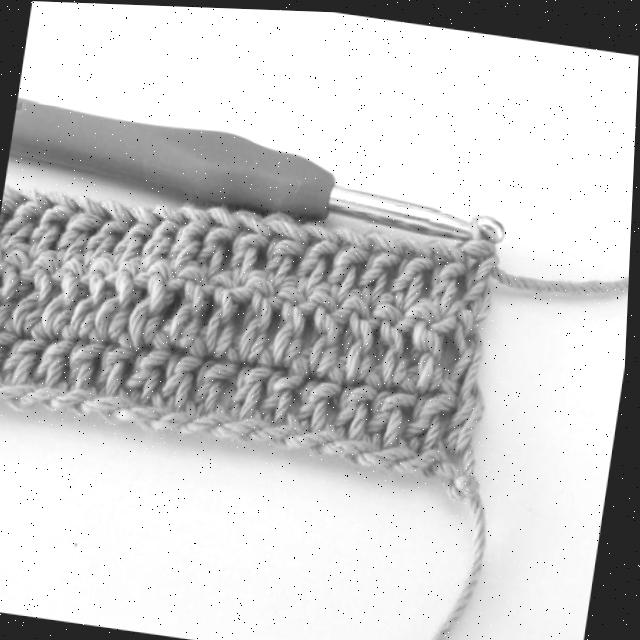ch: (437, 457, 485, 498), (177, 411, 235, 436), (395, 446, 450, 472), (359, 446, 426, 467), (77, 394, 141, 415), (13, 387, 69, 411), (46, 388, 100, 412), (214, 417, 272, 439), (143, 410, 200, 432), (314, 437, 379, 454), (109, 405, 170, 422), (0, 384, 38, 403), (274, 436, 327, 445), (292, 430, 331, 434)
dc: (98, 255, 152, 340), (410, 297, 459, 388), (207, 275, 260, 355), (82, 197, 136, 274), (43, 253, 90, 340), (131, 276, 189, 346), (239, 270, 282, 363), (374, 362, 421, 446), (377, 289, 418, 385), (127, 323, 173, 408), (264, 215, 313, 292), (297, 357, 347, 432), (264, 348, 312, 426), (410, 375, 458, 453), (18, 249, 62, 334), (59, 192, 110, 265), (73, 252, 117, 336), (165, 330, 211, 410), (337, 362, 385, 437), (298, 220, 344, 296), (278, 274, 315, 368), (170, 204, 215, 280), (360, 230, 405, 306), (334, 221, 374, 304), (198, 339, 243, 412), (233, 344, 277, 418), (30, 194, 79, 260), (231, 209, 275, 282), (348, 286, 382, 380), (201, 206, 243, 282), (2, 186, 48, 255), (395, 234, 437, 308), (173, 278, 218, 347), (142, 202, 185, 272), (447, 378, 487, 453), (113, 202, 157, 269), (7, 321, 53, 385), (428, 240, 466, 317), (0, 246, 33, 334), (35, 325, 78, 391), (315, 281, 344, 372), (100, 328, 136, 393), (72, 328, 105, 390), (0, 187, 23, 252), (0, 318, 18, 384)
